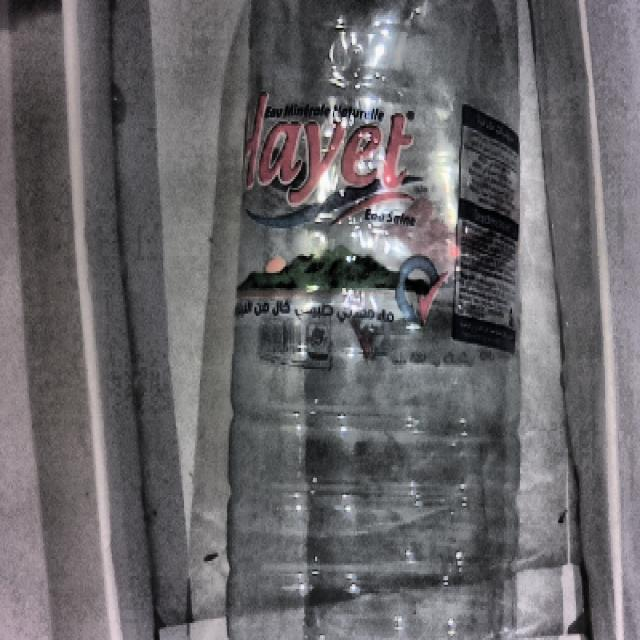plastic: (182, 0, 580, 640)
